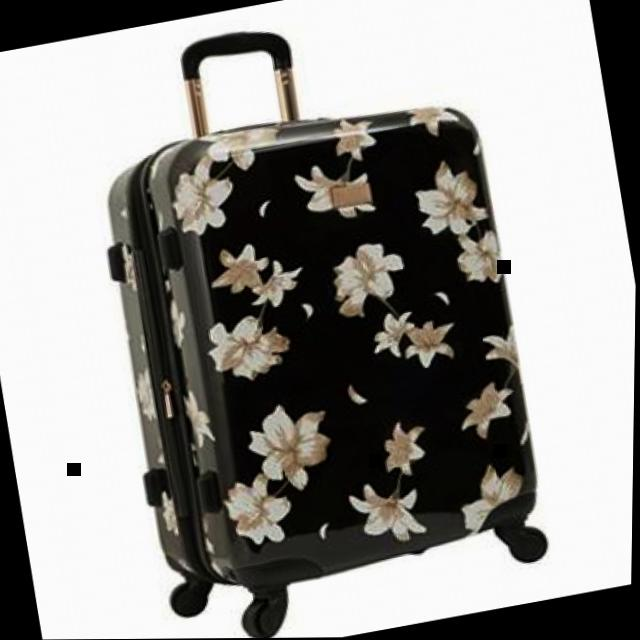luggage: (73, 71, 561, 618)
